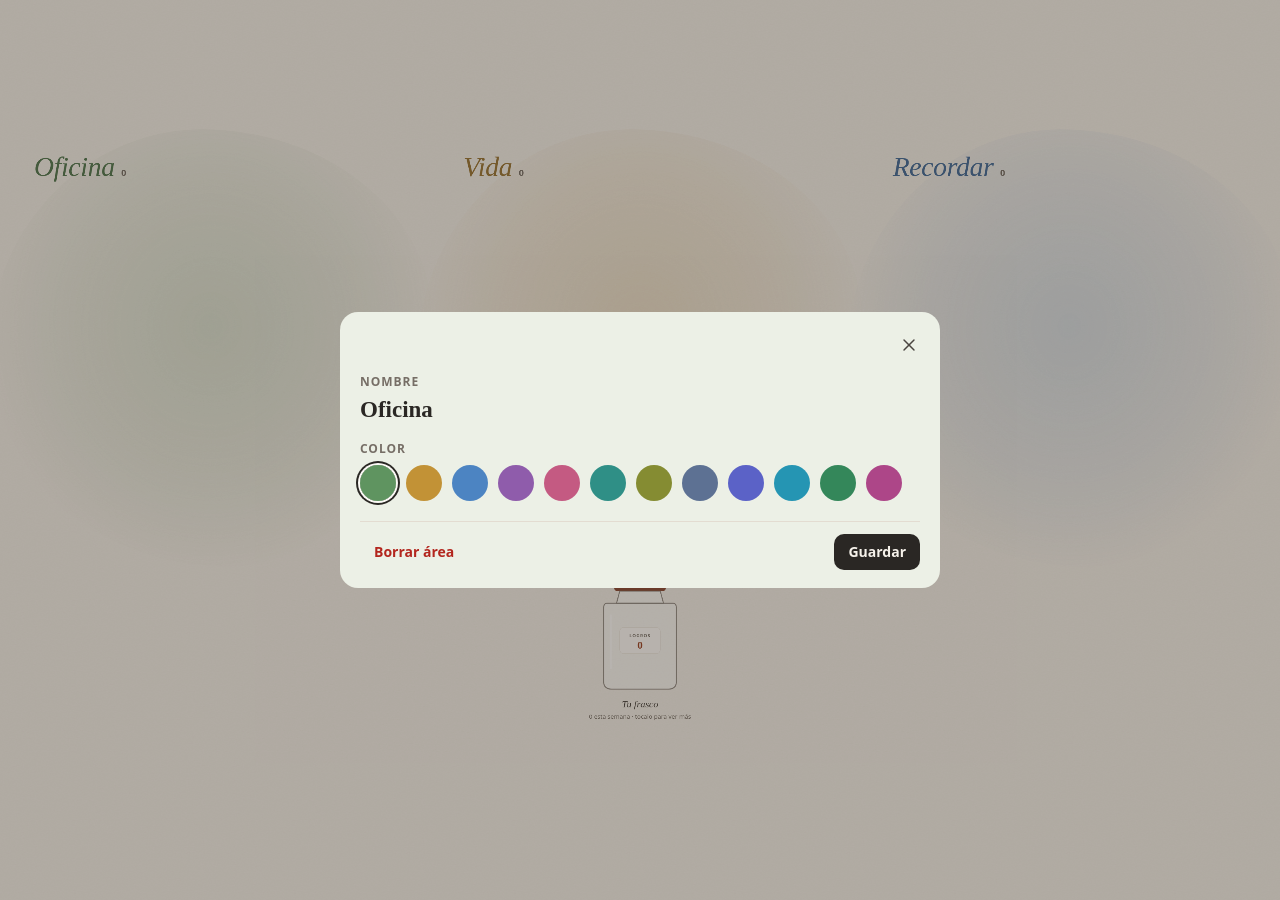
AreaEditor › clearing the name of a default Area brings "Trabajo" back on close
The width and height of the screenshot is (1280, 900).
Clear the field labelled "Nombre": (640, 410) x1=360 y1=394 x2=920 y2=427
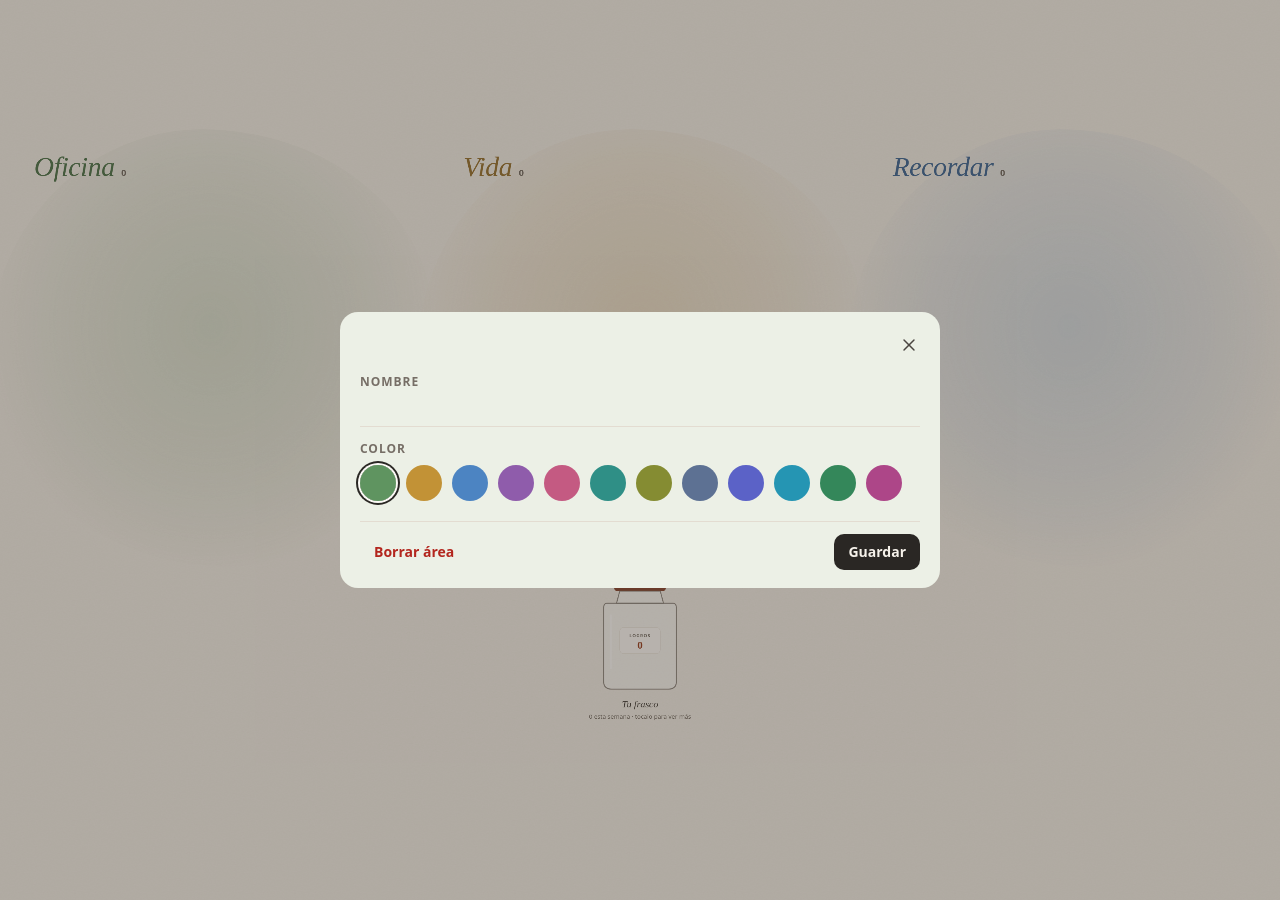
Press Escape
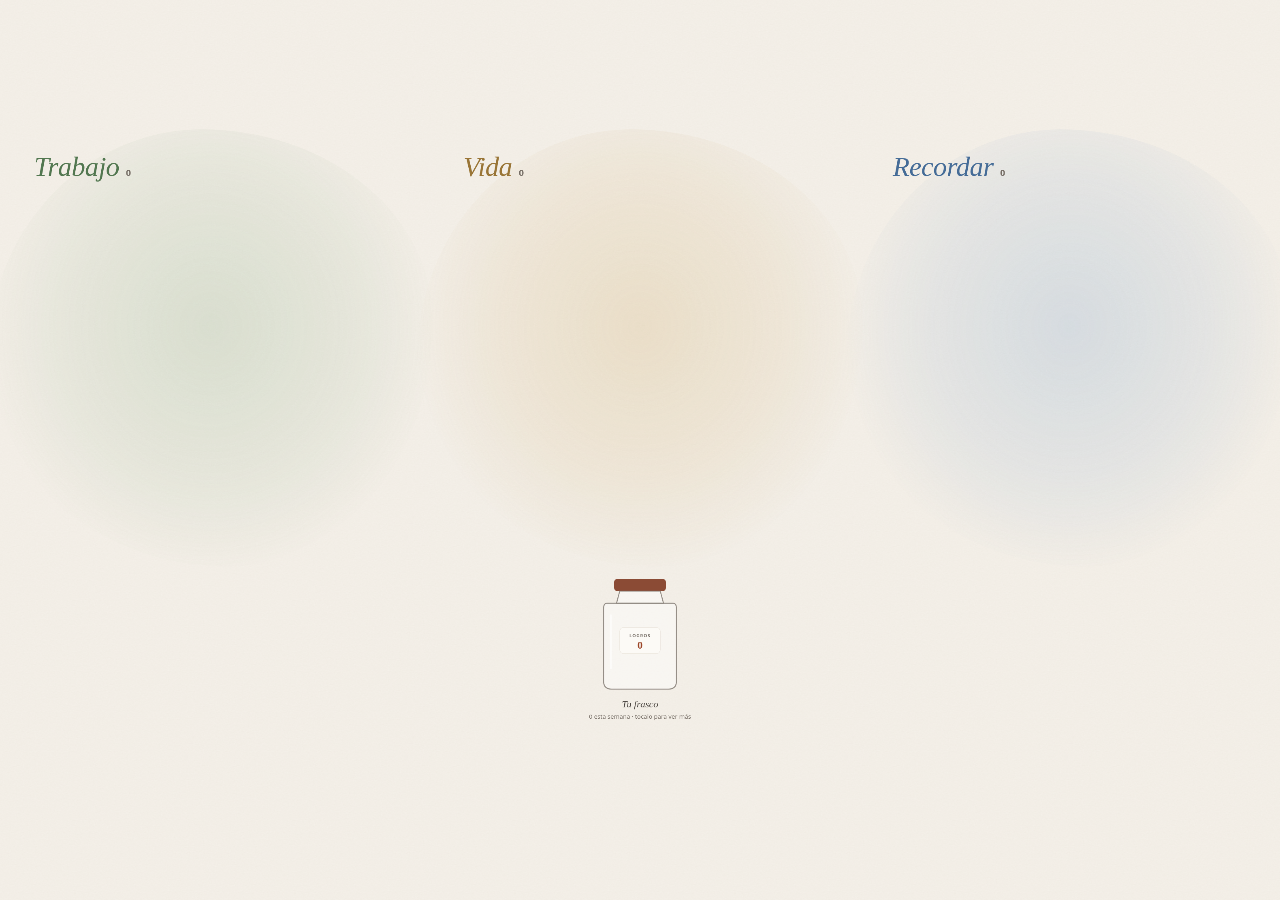
Result: the dialog is gone
